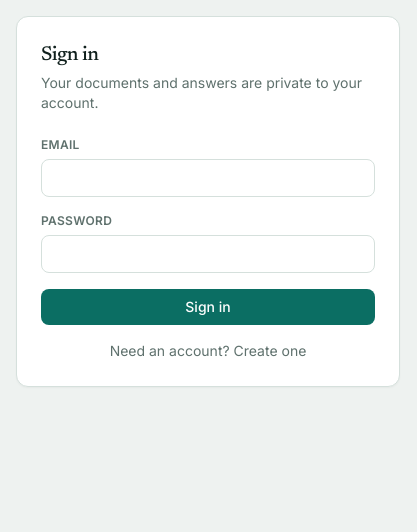
Test: AuthView › lists every validation message from the backend
Expected: the heading "Sign in" is shown, 41,45 -> 98,65
Click the button "Need an account? Create one": point(208, 351) 41,341 -> 375,361
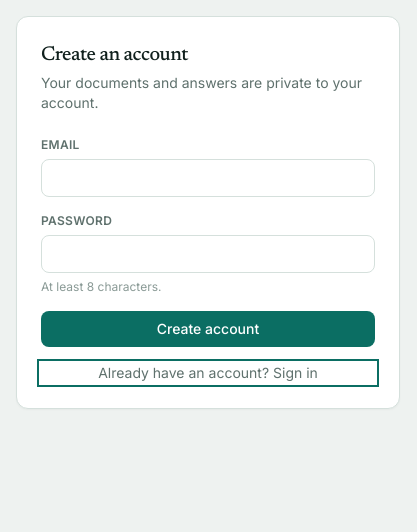
In the field labelled "Email": point(208, 178) 41,159 -> 375,197, type "ada@example.com"
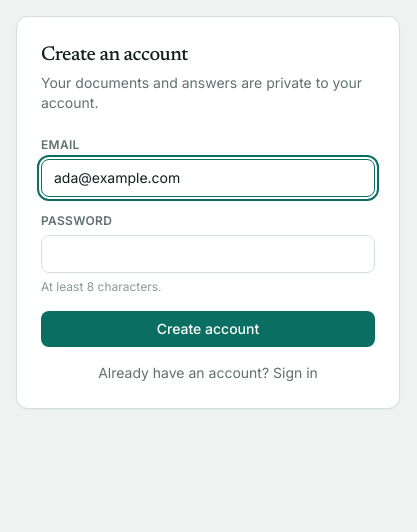
In the password field labelled "Password": point(208, 254) 41,235 -> 375,273, type "correct-horse"
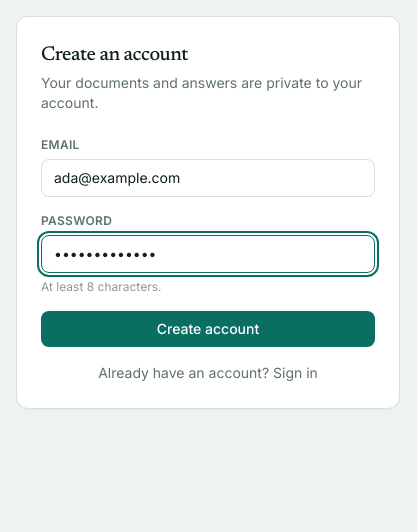
Click the button "Create account": point(208, 329) 41,311 -> 375,347
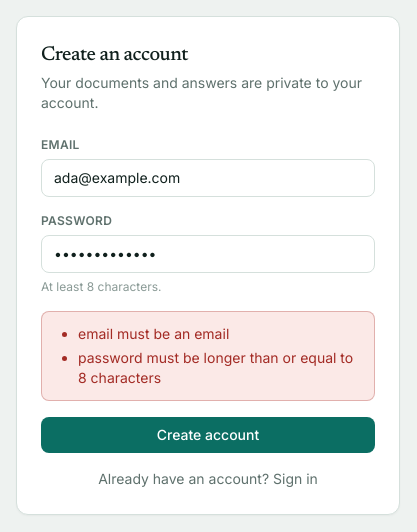
Now the number of list items is 2, box 78,325 -> 229,342; 78,348 -> 358,388
